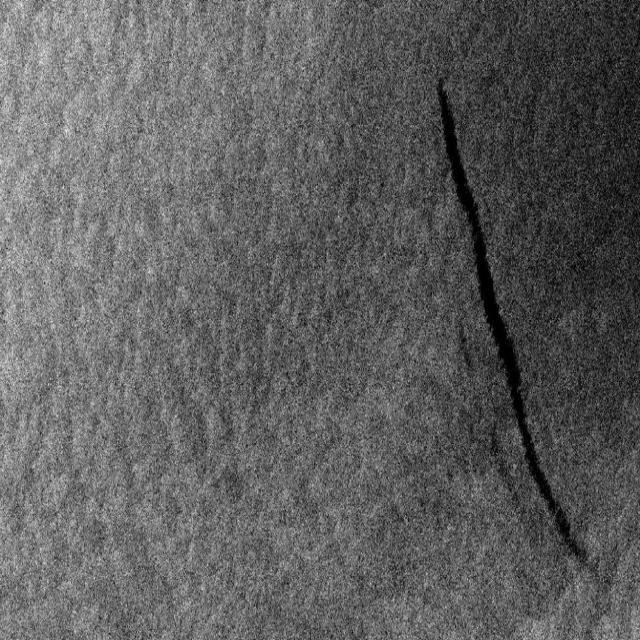oil-spill: (429, 72, 605, 586)
